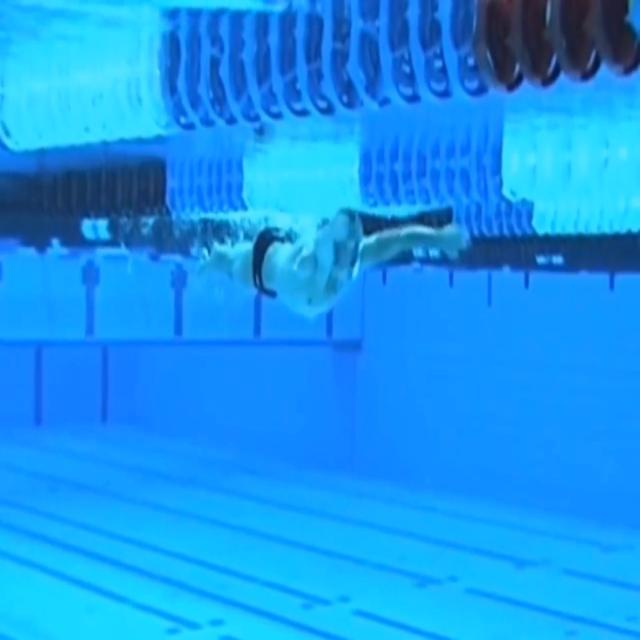Swimming: (194, 211, 467, 323)
